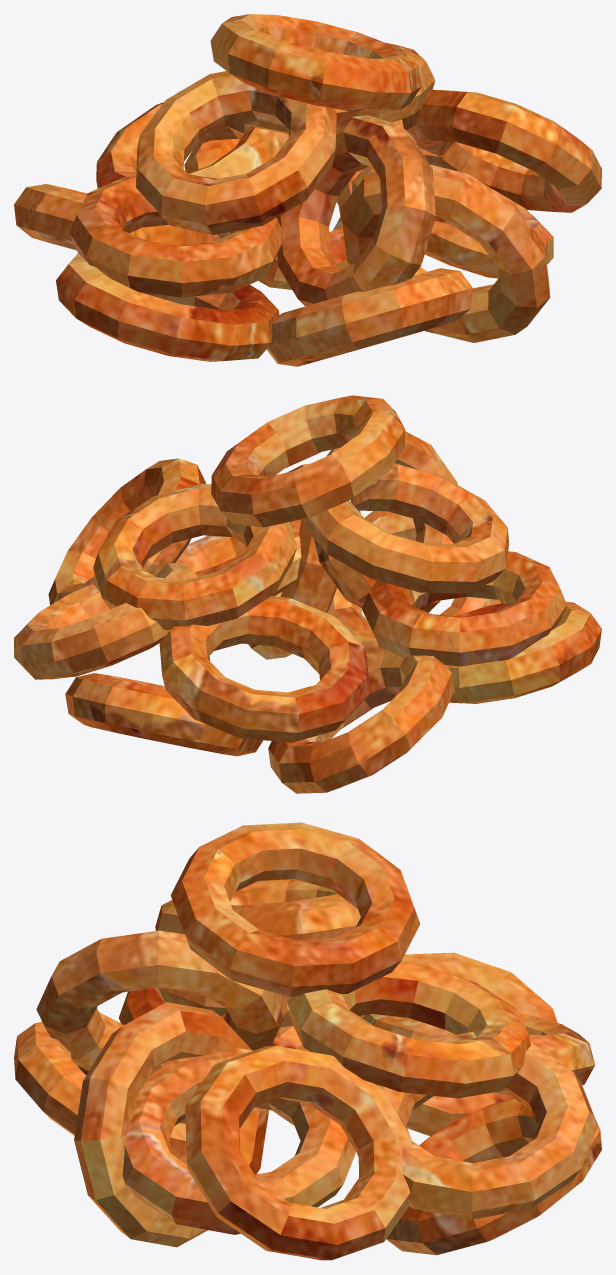
The model's file is 洋蔥圈_塗色完成.fbx.
3 renders of one model, top to bottom at view 1: azimuth 30°, elevation 25°; view 2: azimuth 150°, elevation 25°; view 3: azimuth 270°, elevation 25°, orthographic. The views are drawn at different scales.
Parts seen in each view (by area): view 1: Torus.017; view 2: Torus.017; view 3: Torus.017.
Boxes of the visible parts, left/top/right/bottom form: Torus.017: left=14, top=14, right=601, bottom=366; Torus.017: left=14, top=395, right=601, bottom=793; Torus.017: left=14, top=822, right=601, bottom=1260.
Bounding box in the file's own units: 122 × 70.31 × 108.
